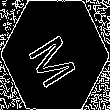M_NE: (26, 23, 84, 87)
